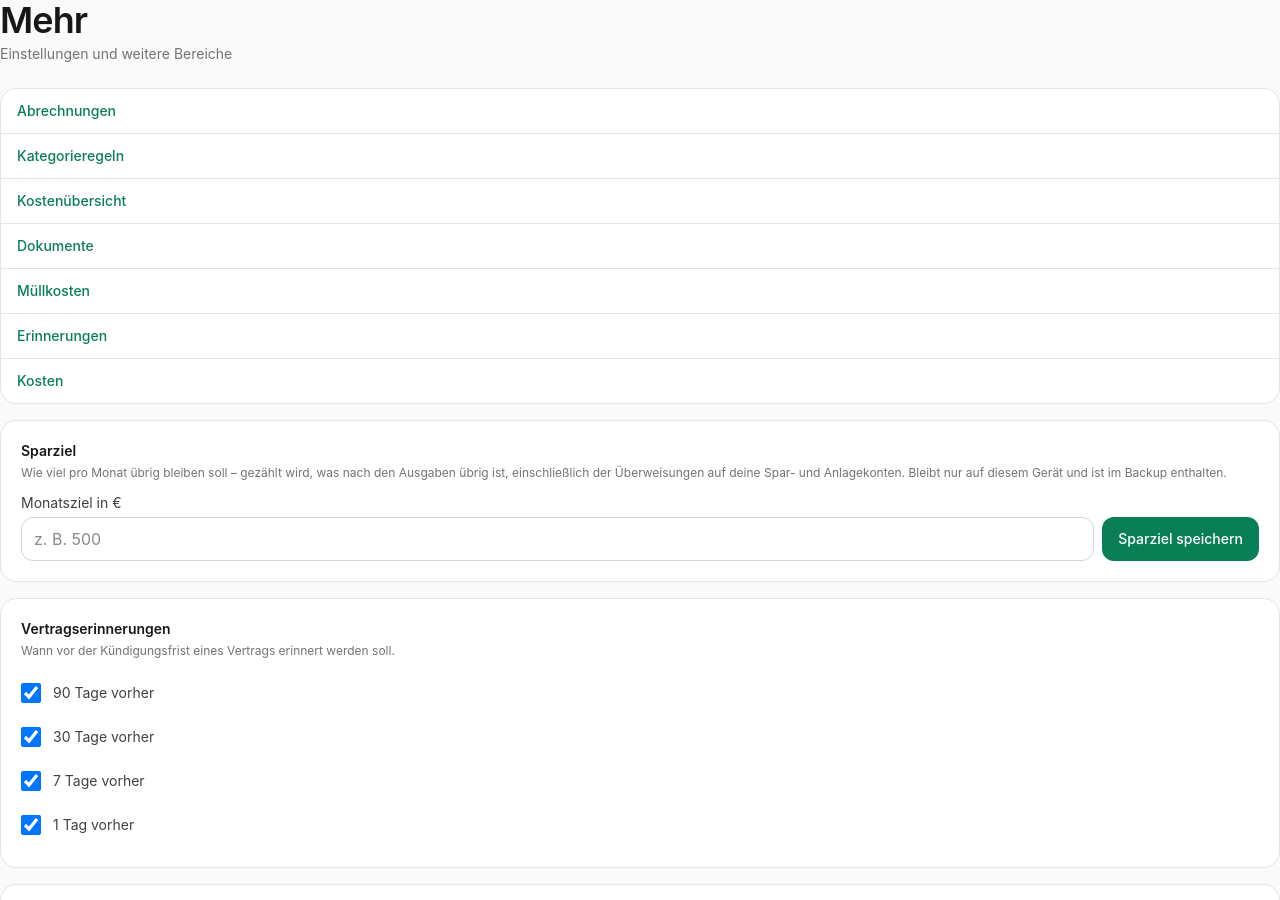
Test: Sparziel › saves, changes and removes the monthly goal with German amounts
Type "0" into the field labelled "Monatsziel in €" at [558, 539], box [21,517,1094,561]
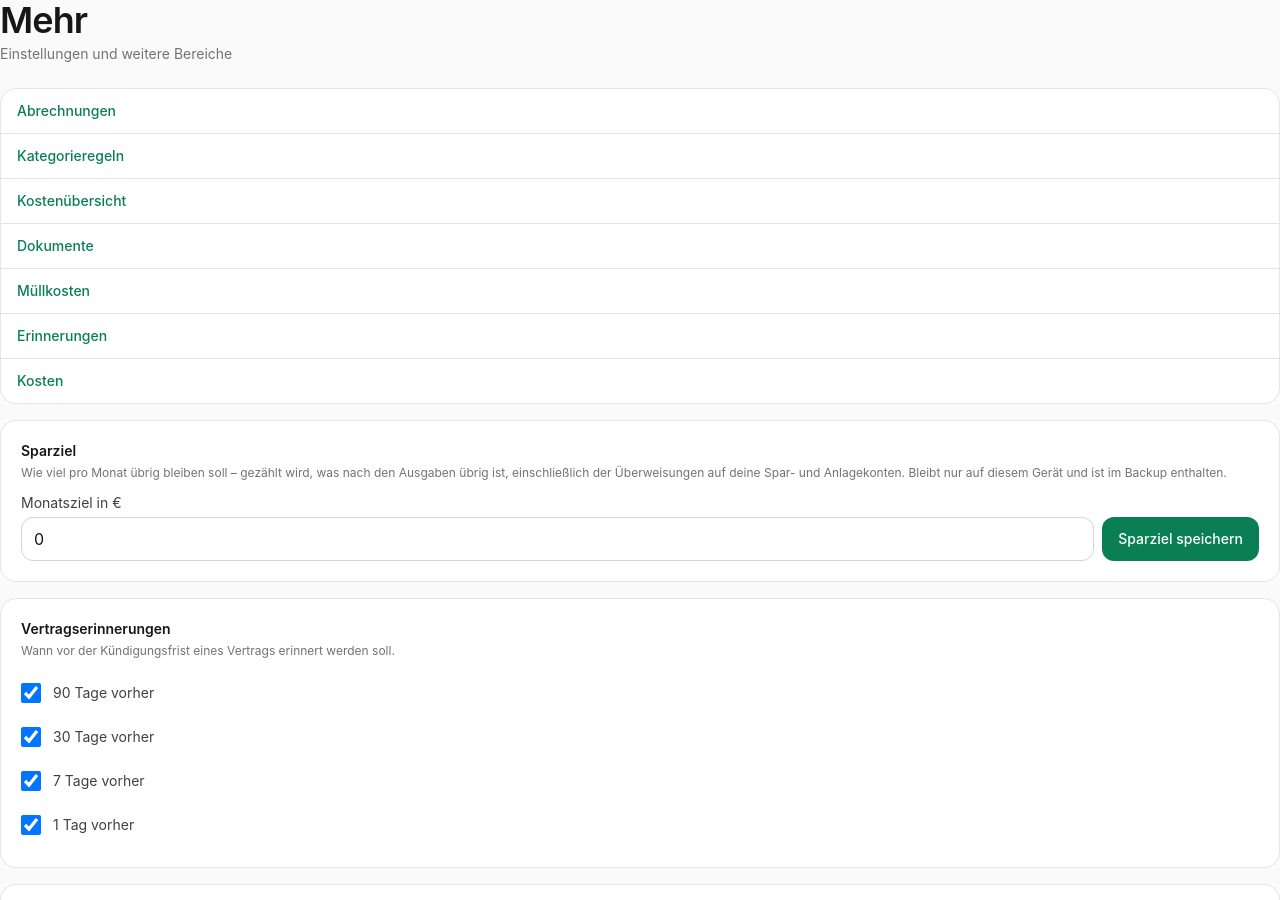
Click the button "Sparziel speichern" at [1181, 539], box [1102,517,1259,561]
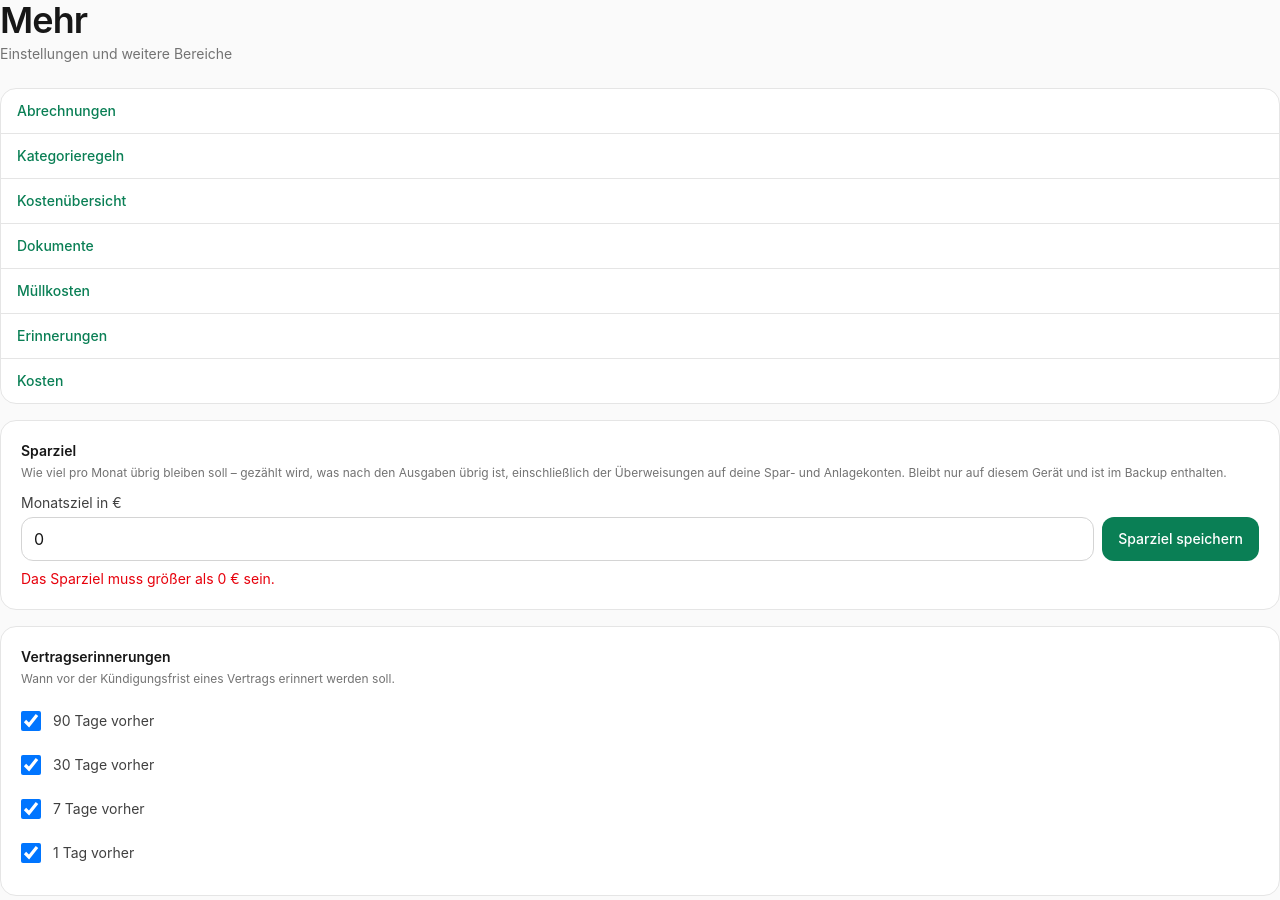
Now the message reads "Das Sparziel muss größer als 0 € sein.", box [21,570,275,587]
Replace the text in the field labelled "Monatsziel in €" with "450,50" at [558, 539], box [21,517,1094,561]
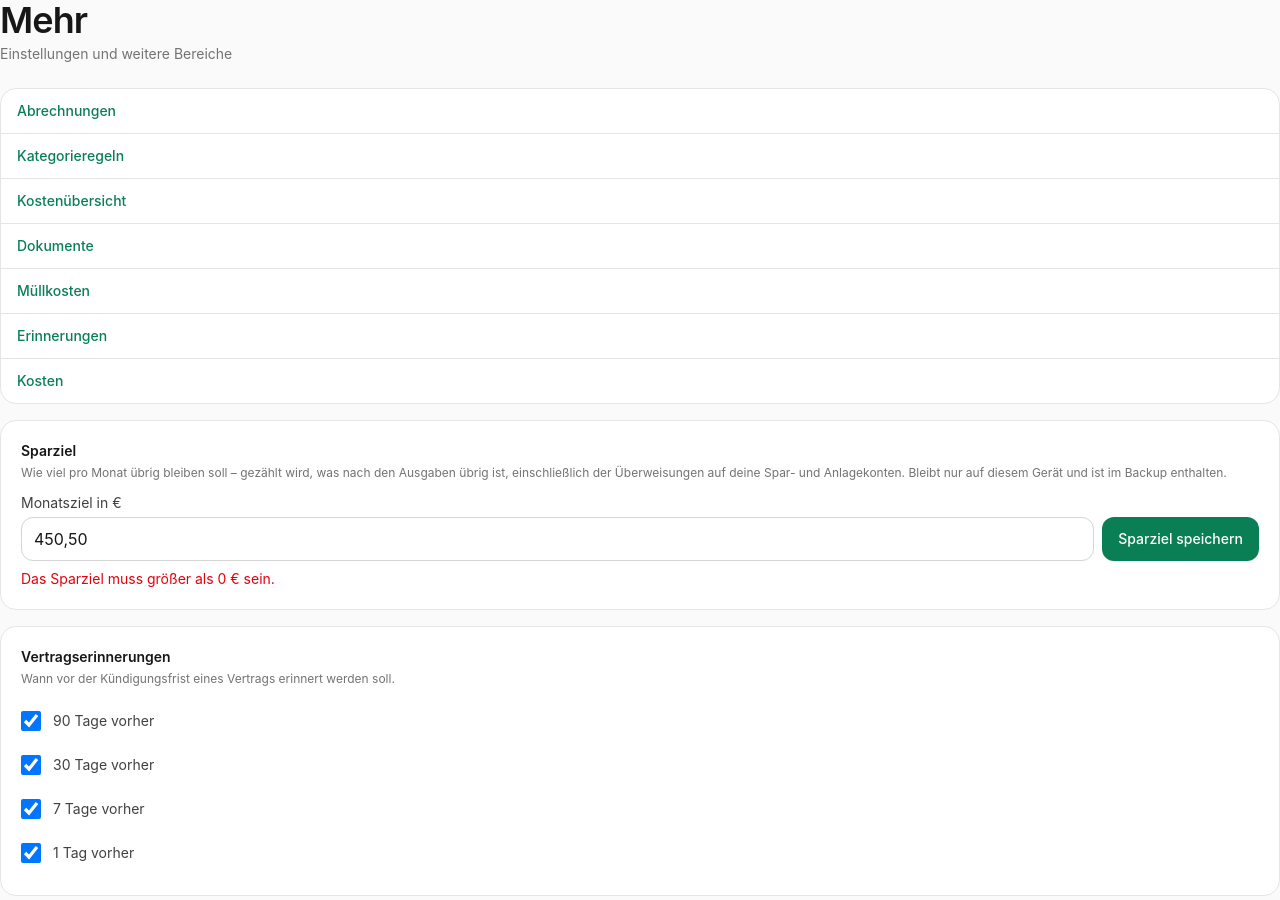
Click the button "Sparziel speichern" at [1181, 539], box [1102,517,1259,561]
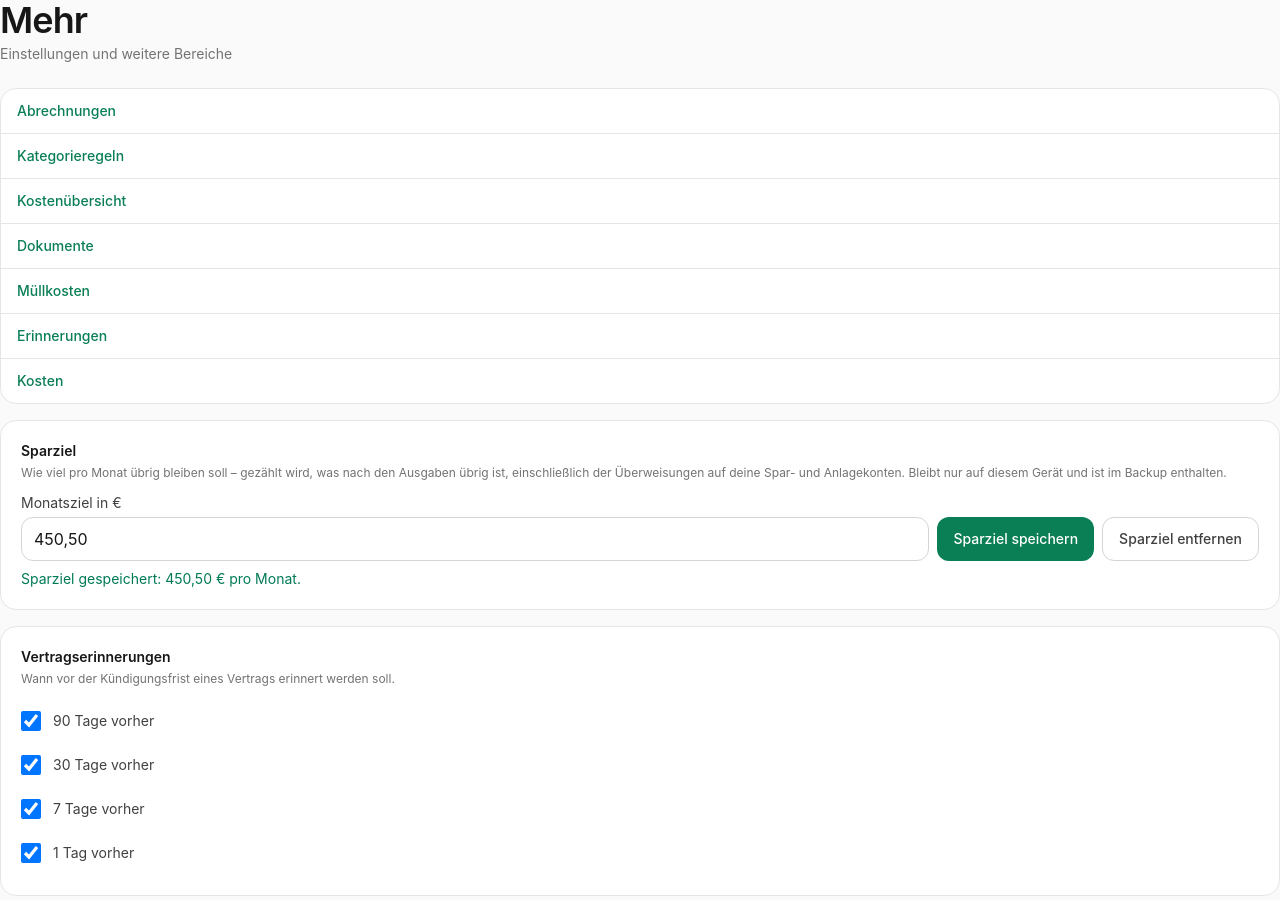
Now the text "Sparziel gespeichert: 450,50 € pro Monat." is shown, box [21,570,301,587]
Click the button "Sparziel entfernen" at [1181, 539], box [1102,517,1259,561]
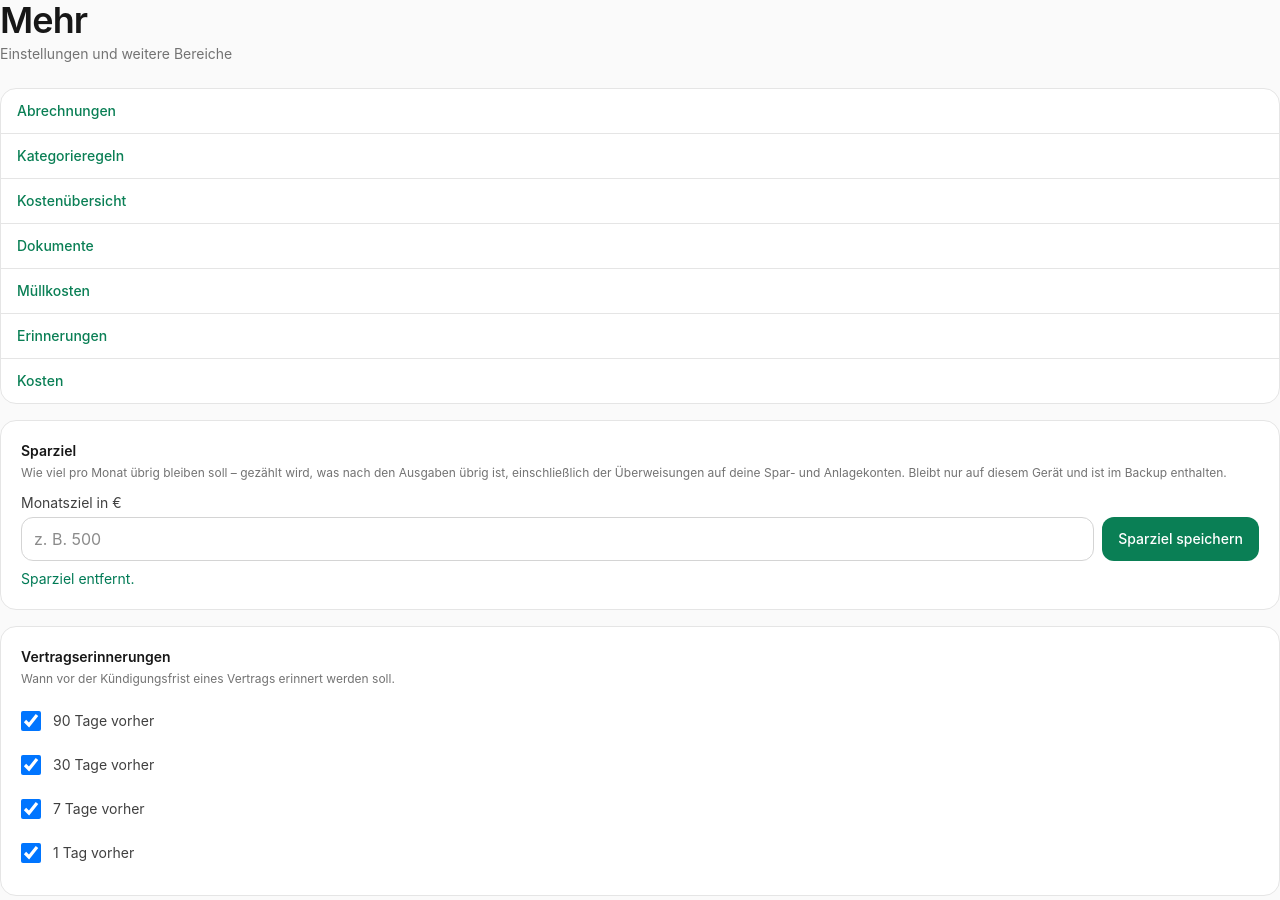
Now the text "Sparziel entfernt." is shown, box [21,570,134,587]
